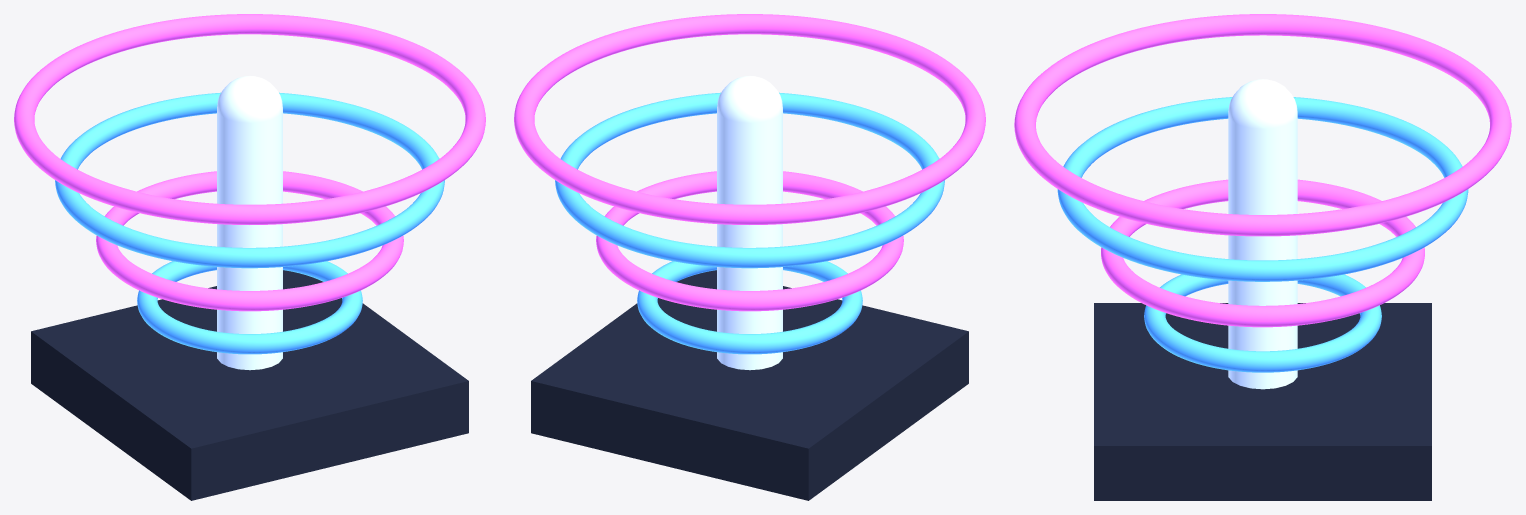
The model's file is portal-stack.glb.
3 renders of one model, left to right at view 1: azimuth 30°, elevation 25°; view 2: azimuth 150°, elevation 25°; view 3: azimuth 270°, elevation 25°, orthographic. The views are drawn at different scales.
Visible parts, largest first — view 1: PortalStack, portal3, portal2, portal1, portal0; view 2: PortalStack, portal3, portal2, portal1, portal0; view 3: PortalStack, portal3, portal2, portal1, portal0.
Boxes of the visible parts, box(x1,y1,x2,y2) form: PortalStack: box(31, 76, 468, 500); portal3: box(14, 14, 485, 224); portal2: box(55, 92, 444, 268); portal1: box(96, 171, 403, 311); portal0: box(137, 261, 362, 354); PortalStack: box(531, 76, 968, 500); portal3: box(514, 14, 985, 224); portal2: box(555, 92, 944, 268); portal1: box(596, 171, 903, 311); portal0: box(637, 261, 862, 354); PortalStack: box(1094, 79, 1431, 500); portal3: box(1014, 14, 1511, 236); portal2: box(1057, 97, 1468, 281); portal1: box(1101, 179, 1424, 327); portal0: box(1144, 274, 1381, 372).
Size of the model in its own units: 3.68 by 2.84 by 3.68.
